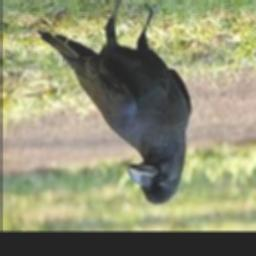Crow: (38, 0, 190, 205)
